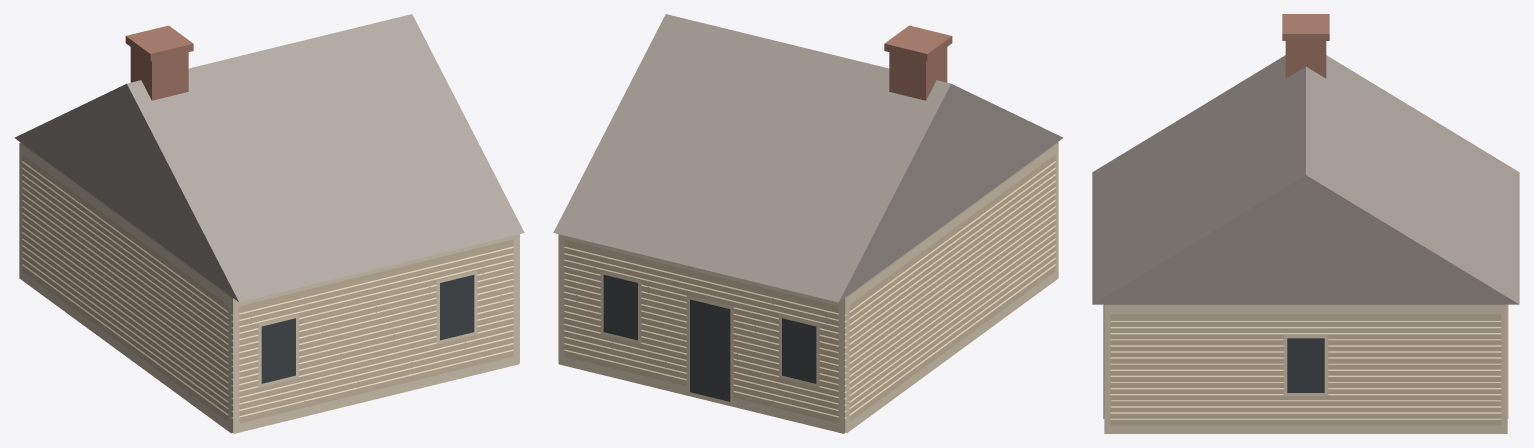
Rendered from recon_1835_blk_randolph_franklin_d4_03__inferred_1835.glb.
3 views of the same model, side by side, from view 1: azimuth 30°, elevation 25°; view 2: azimuth 150°, elevation 25°; view 3: azimuth 270°, elevation 25° (orthographic). The views are drawn at different scales.
Visible parts, largest first — view 1: recon_1835_blk_randolph_franklin_d4_03__inferred_1835; view 2: recon_1835_blk_randolph_franklin_d4_03__inferred_1835; view 3: recon_1835_blk_randolph_franklin_d4_03__inferred_1835.
Boxes of the visible parts, left/top/right/bottom form: recon_1835_blk_randolph_franklin_d4_03__inferred_1835: left=14, top=14, right=524, bottom=433; recon_1835_blk_randolph_franklin_d4_03__inferred_1835: left=553, top=14, right=1063, bottom=433; recon_1835_blk_randolph_franklin_d4_03__inferred_1835: left=1092, top=14, right=1519, bottom=433.
Bounding box in the file's own units: 6.59 × 6.7 × 8.89.
